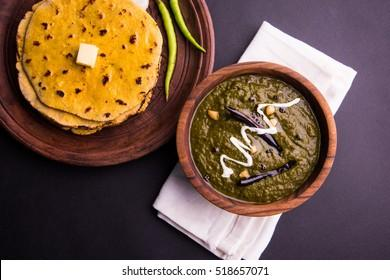saag: (193, 76, 322, 205)
